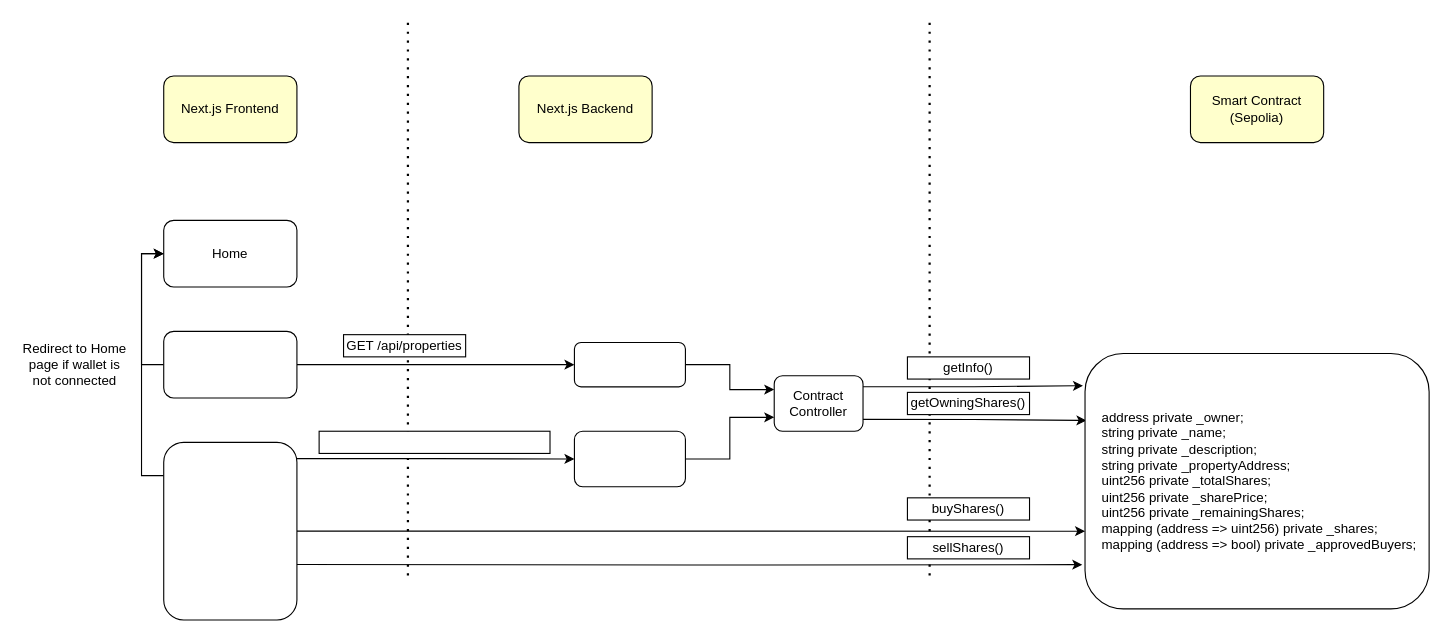
Some shapes in this 1449 by 639 pixel diagram are drawn without their labels. Each missing label, with the centre of its shape:
GET /api/trade/${contractAddress}: the point at 434,441
Properties: the point at 230,364
Properties API: the point at 629,364
Trade: the point at 230,530
Trade API: the point at 629,458
